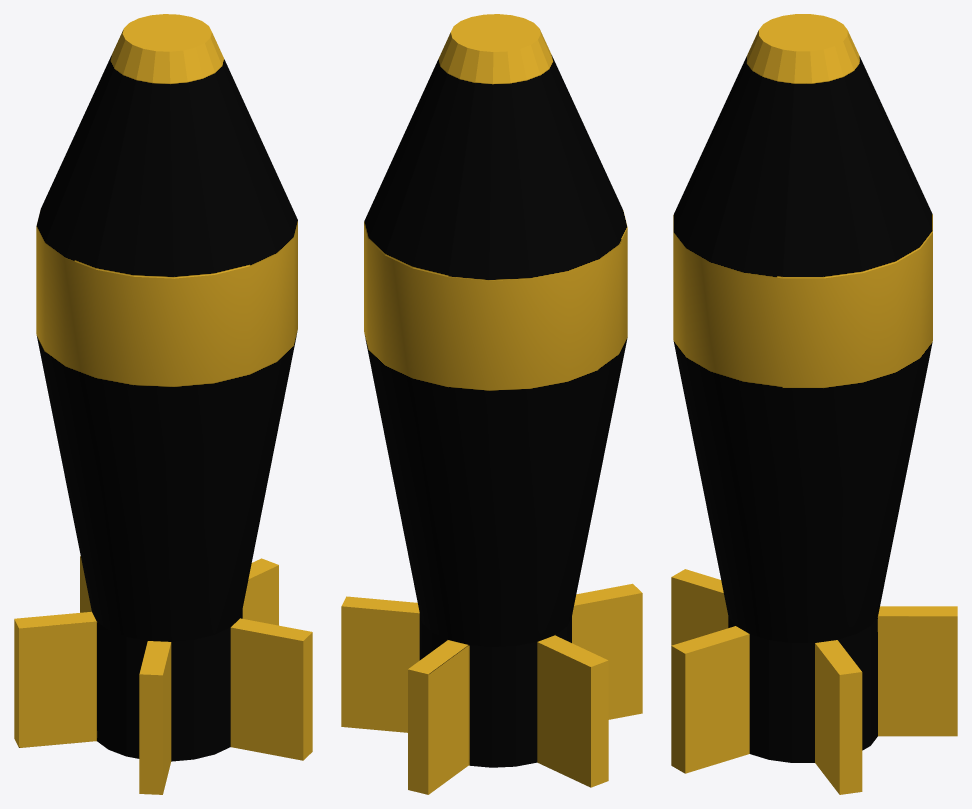
File: Missil4.fbx
The picture shows the model from 3 angles, left to right: view 1: azimuth 30°, elevation 25°; view 2: azimuth 150°, elevation 25°; view 3: azimuth 270°, elevation 25°; orthographic projection.
Parts seen in each view (by area): view 1: pCylinder2; view 2: pCylinder2; view 3: pCylinder2.
Boxes of the visible parts, <box> form: pCylinder2: <box>14,14,312,794</box>; pCylinder2: <box>341,14,642,794</box>; pCylinder2: <box>671,14,957,794</box>.
Size of the model in its own units: 0.8134 by 2.08 by 0.7736.
